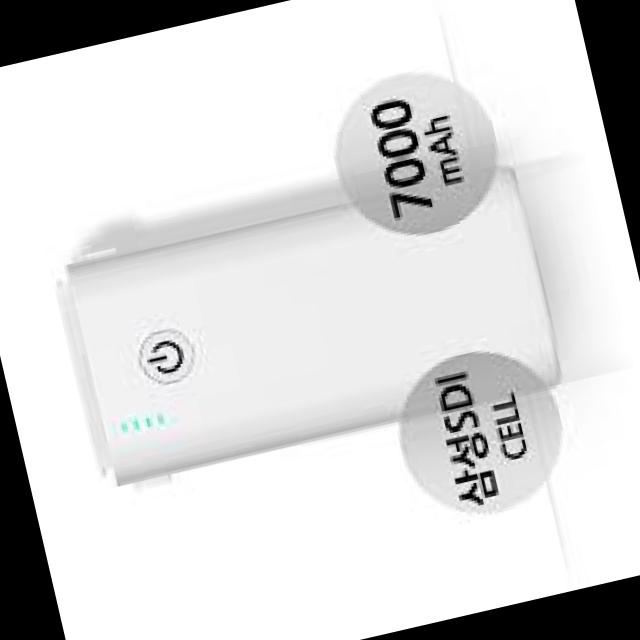power_bank: (46, 154, 566, 491)
